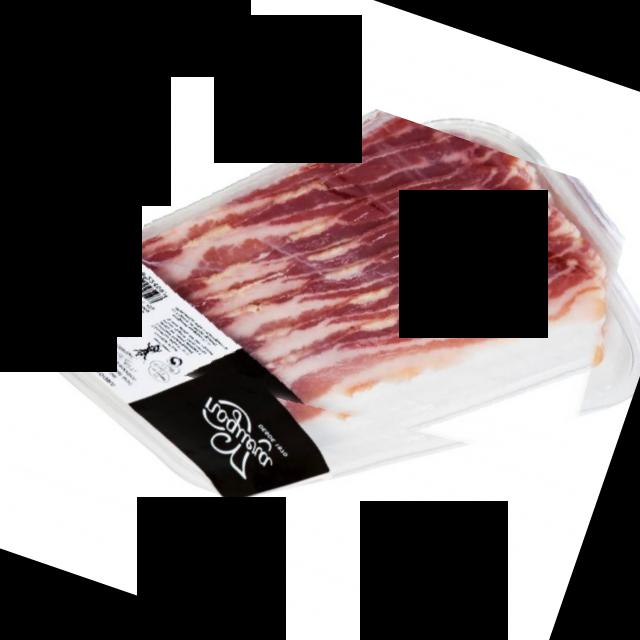bacon: (98, 49, 640, 510)
